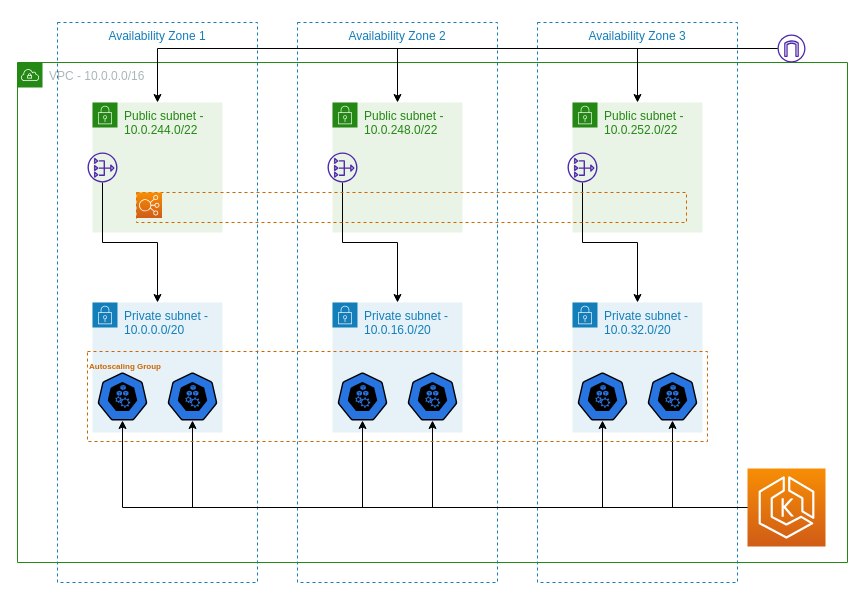
This 865x600 diagram has some shape labels left out. Here are the shapes that lost their labels. From the top down, the centre of each, then its label:
point (791, 48): internet Gateway
point (149, 205): Kubernetes Load Balancer
